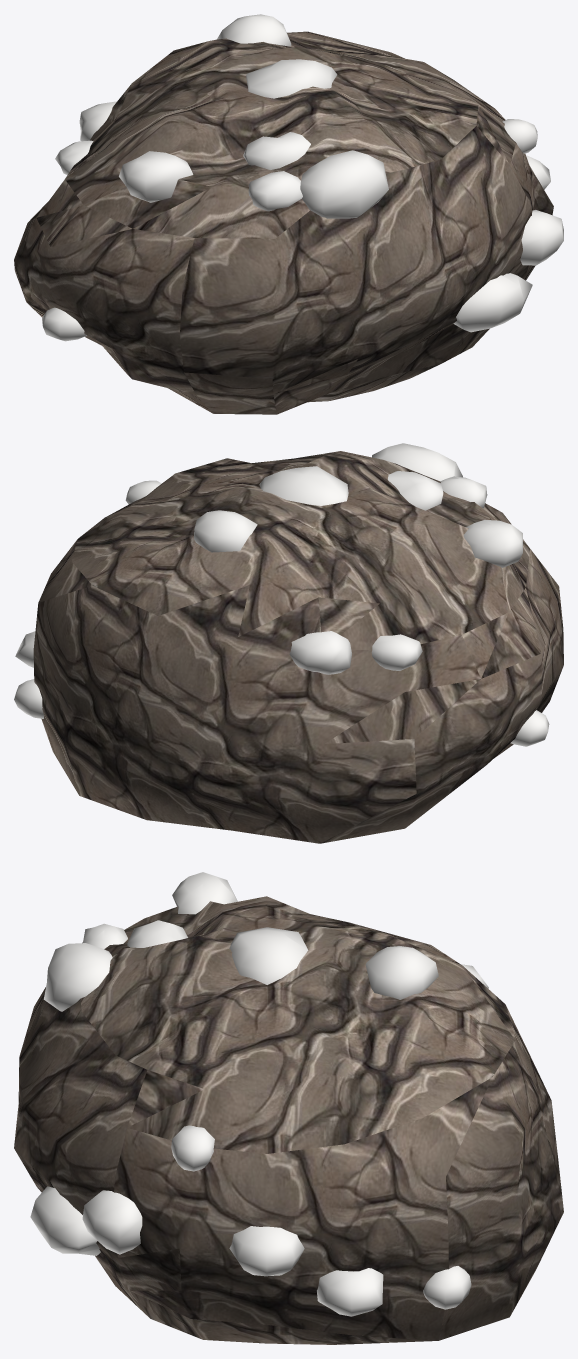
File: ore_silver.glb
3 views of the same model, one above another, from view 1: azimuth 30°, elevation 25°; view 2: azimuth 150°, elevation 25°; view 3: azimuth 270°, elevation 25° (orthographic). The views are drawn at different scales.
Parts seen in each view (by area): view 1: ore_silver; view 2: ore_silver; view 3: ore_silver.
Part boxes in pixels (x1,y1,x2,y2): ore_silver: (14,14,563,414); ore_silver: (14,443,563,843); ore_silver: (14,872,563,1344).
Size of the model in its own units: 1.92 by 1.09 by 1.6.
2 materials, 1 textured.
